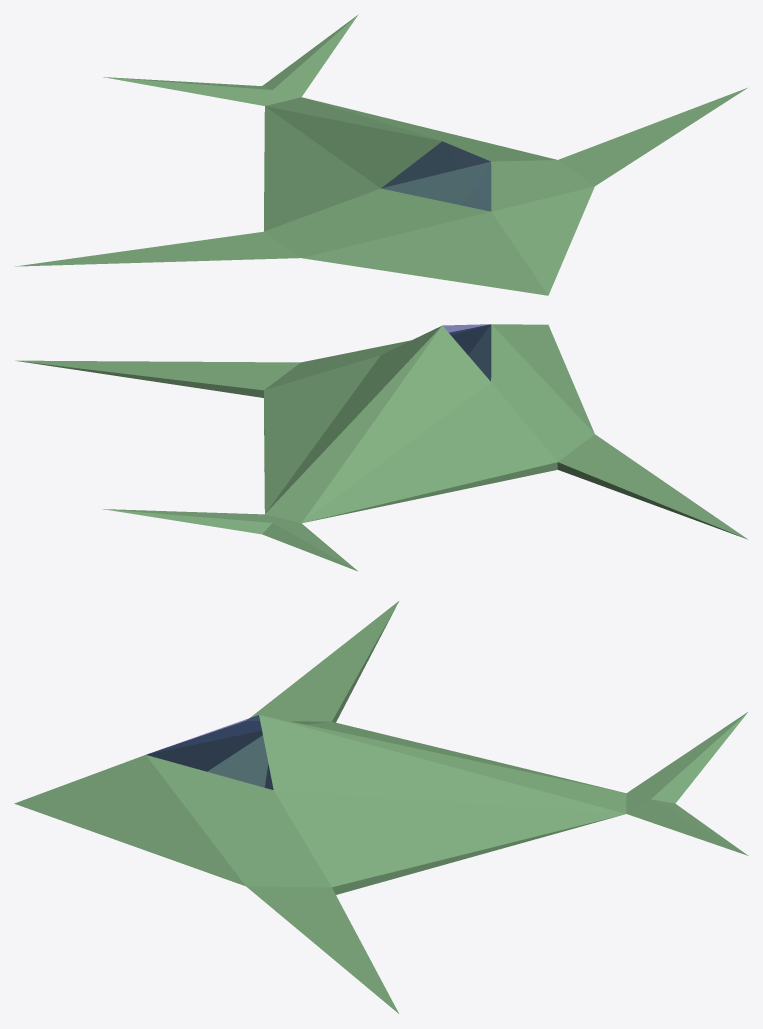
File: airship1.glb
3 views of the same model, one above another, from view 1: azimuth 30°, elevation 25°; view 2: azimuth 150°, elevation 25°; view 3: azimuth 270°, elevation 25° (orthographic). The views are drawn at different scales.
Parts seen in each view (by area): view 1: airship; view 2: airship; view 3: airship.
Boxes of the visible parts, x1=… form: airship: x1=15, y1=14, x2=747, y2=295; airship: x1=15, y1=324, x2=747, y2=571; airship: x1=14, y1=601, x2=748, y2=1013.
Bounding box in the file's own units: 40 × 5 × 30.
